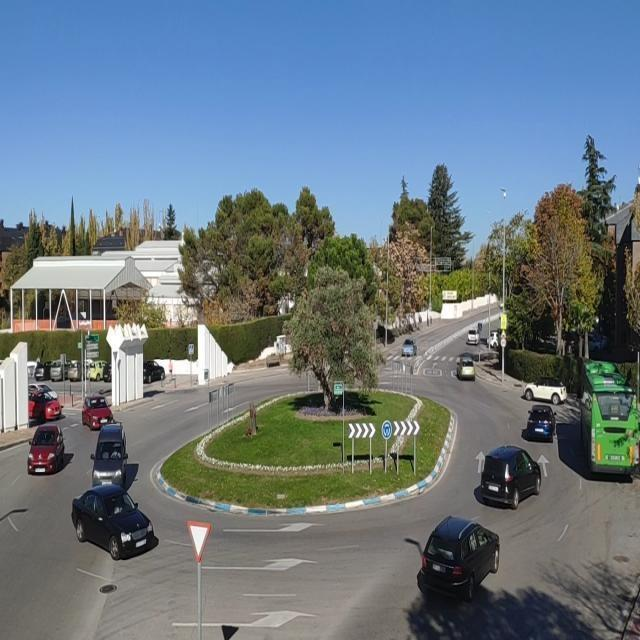Bus: (581, 356, 640, 478)
Car: (416, 515, 500, 602), (71, 484, 158, 560), (478, 446, 541, 509), (91, 424, 130, 486), (28, 425, 66, 474), (524, 405, 557, 442), (524, 378, 567, 406), (82, 395, 114, 429), (28, 389, 62, 419), (49, 359, 74, 382), (67, 360, 93, 382), (28, 382, 58, 400), (86, 360, 110, 382), (143, 361, 165, 384), (456, 355, 476, 380), (589, 333, 609, 353), (34, 361, 54, 381), (402, 339, 416, 357), (488, 331, 500, 349), (466, 329, 479, 344), (104, 361, 112, 382)
